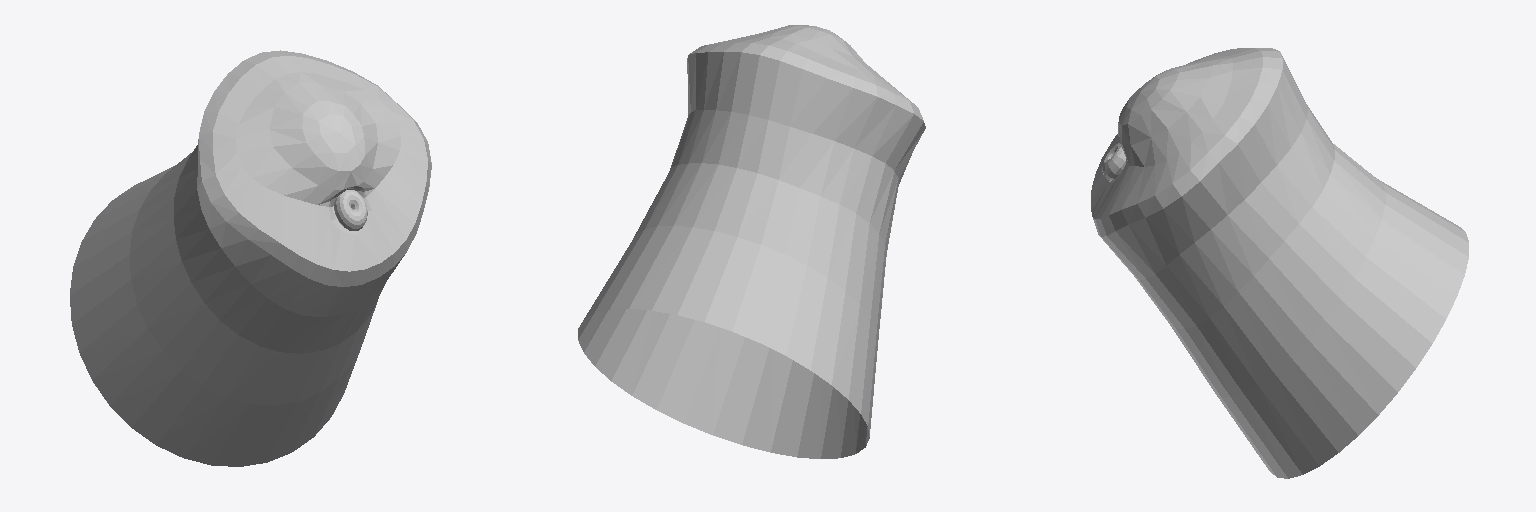
The model's file is Anthro shaft in.obj.
The picture shows the model from 3 angles: view 1: azimuth 30°, elevation 25°; view 2: azimuth 150°, elevation 25°; view 3: azimuth 270°, elevation 25°; orthographic projection.
Visible parts, largest first — view 1: dick_in_sheath.010_horsecock.005; view 2: dick_in_sheath.010_horsecock.005; view 3: dick_in_sheath.010_horsecock.005.
Boxes of the visible parts, box(x1,y1,x2,y2) form: dick_in_sheath.010_horsecock.005: box(70, 50, 431, 466); dick_in_sheath.010_horsecock.005: box(578, 25, 925, 458); dick_in_sheath.010_horsecock.005: box(1091, 48, 1468, 478).
Size of the model in its own units: 1.52 by 2.18 by 1.85.